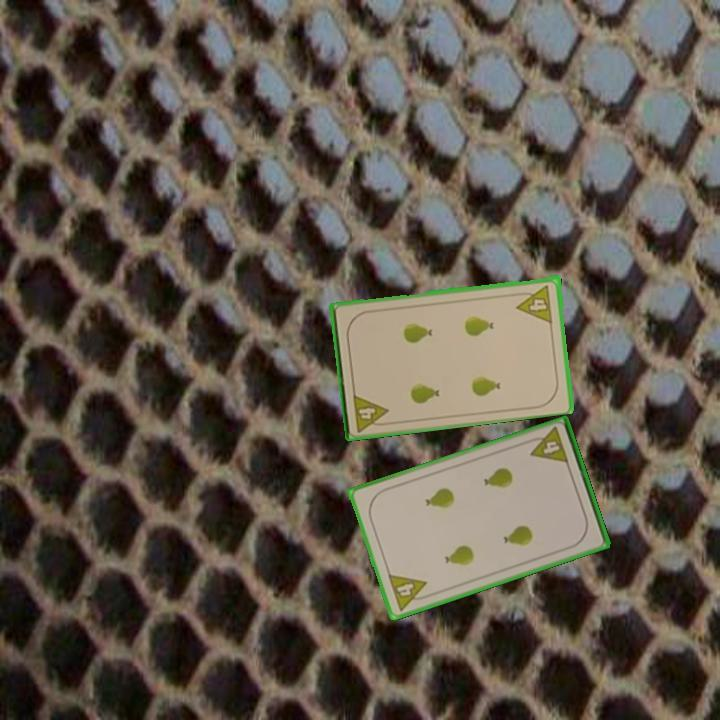4p: (384, 570, 434, 614), (524, 424, 571, 467), (350, 390, 393, 435), (513, 281, 555, 325)
